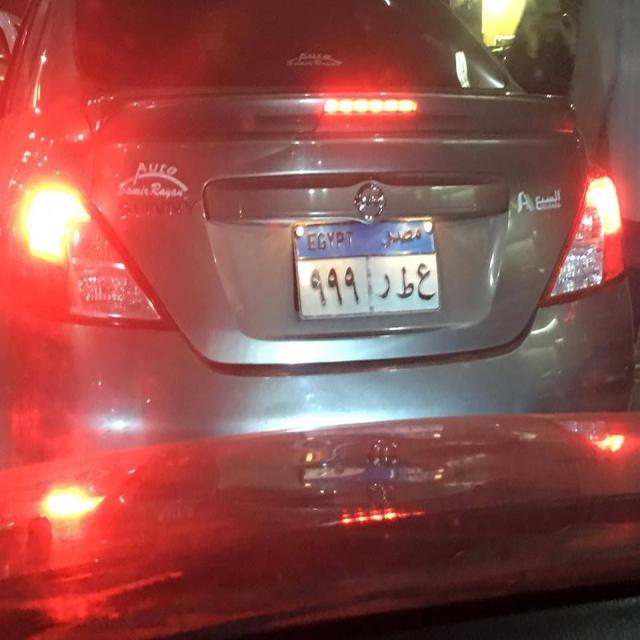License Plate: (290, 215, 445, 324)
